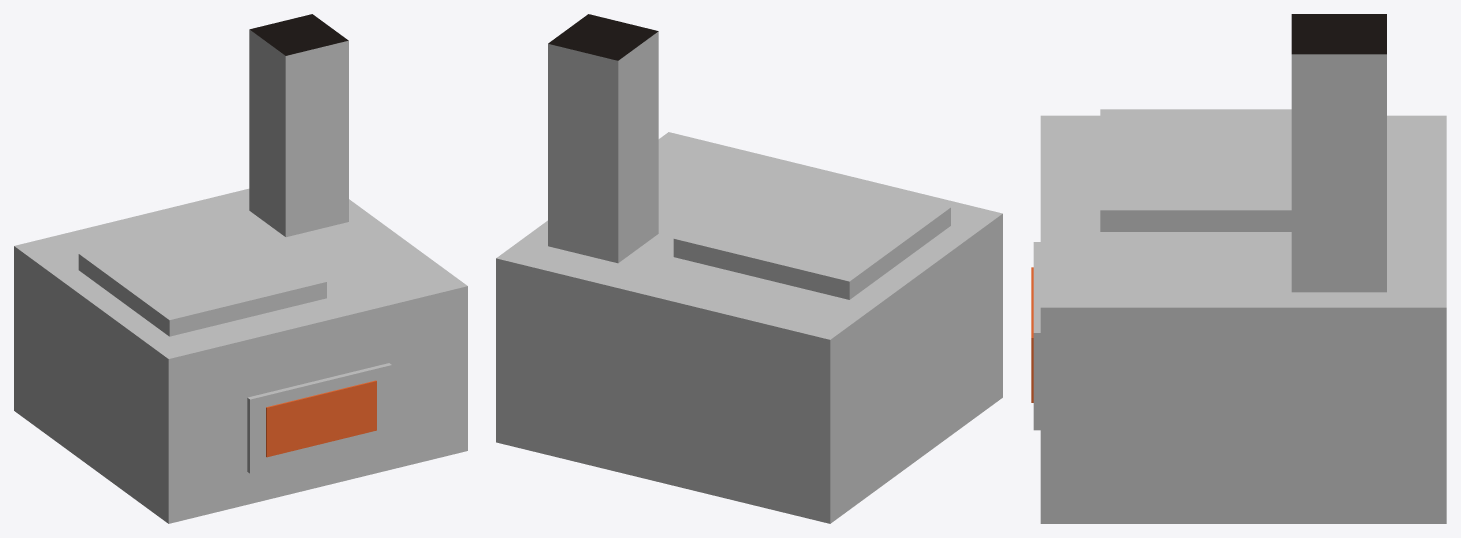
File: crematorium.obj
The picture shows the model from 3 angles, left to right: view 1: azimuth 30°, elevation 25°; view 2: azimuth 150°, elevation 25°; view 3: azimuth 270°, elevation 25°; orthographic projection. The views are drawn at different scales.
Parts seen in each view (by area): view 1: crematorium; view 2: crematorium; view 3: crematorium.
Boxes of the visible parts, <box> form: crematorium: <box>14,14,467,523</box>; crematorium: <box>496,14,1002,523</box>; crematorium: <box>1031,14,1446,523</box>.
Size of the model in its own units: 1.9 by 2.1 by 1.74.
